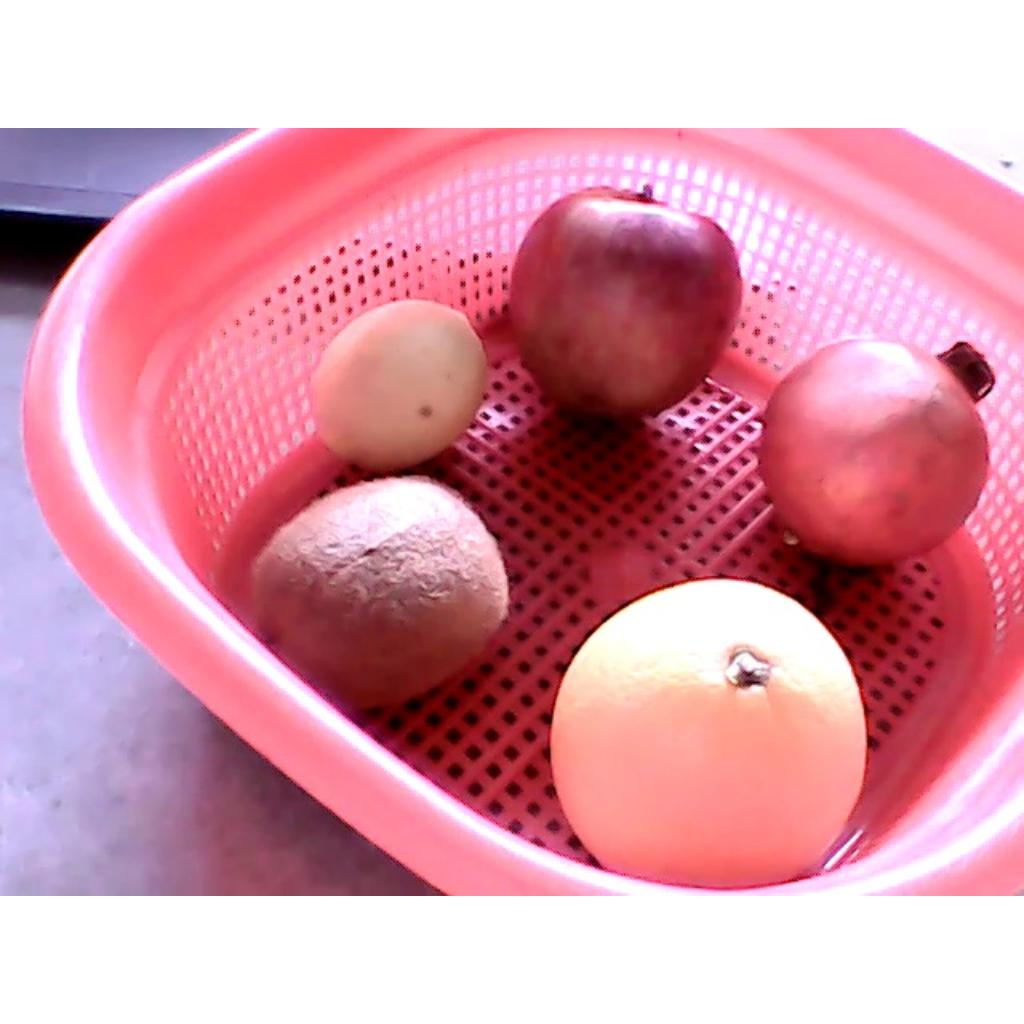apple: (509, 186, 745, 421)
kiwi: (252, 477, 510, 705)
lemon: (309, 302, 490, 471)
orange: (548, 580, 866, 891)
pomegranate: (759, 339, 997, 570)
